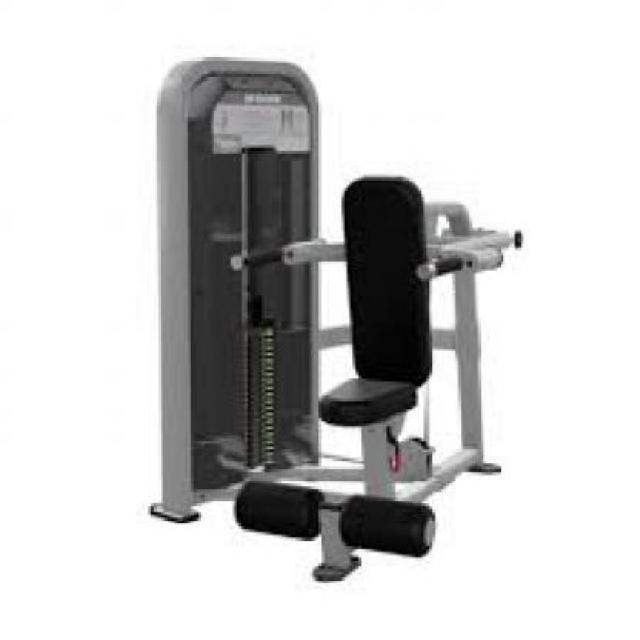seated dip machine: (151, 177, 526, 588)
